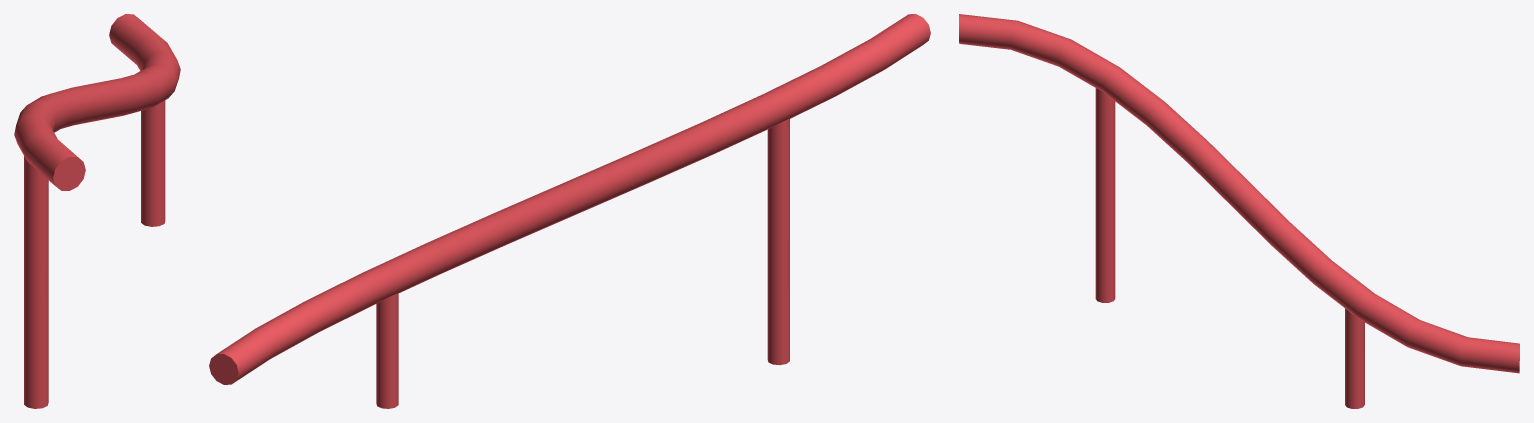
The model's file is rail_left_top_right.glb.
3 views of the same model, side by side, from view 1: azimuth 30°, elevation 25°; view 2: azimuth 150°, elevation 25°; view 3: azimuth 270°, elevation 25° (orthographic). The views are drawn at different scales.
Parts seen in each view (by area): view 1: BézierCurve.002; view 2: BézierCurve.002; view 3: BézierCurve.002.
Boxes of the visible parts, left/top/right/bottom form: BézierCurve.002: left=14, top=14, right=180, bottom=408; BézierCurve.002: left=209, top=14, right=930, bottom=408; BézierCurve.002: left=959, top=14, right=1519, bottom=408.
Size of the model in its own units: 10.8 by 7.67 by 14.96.
